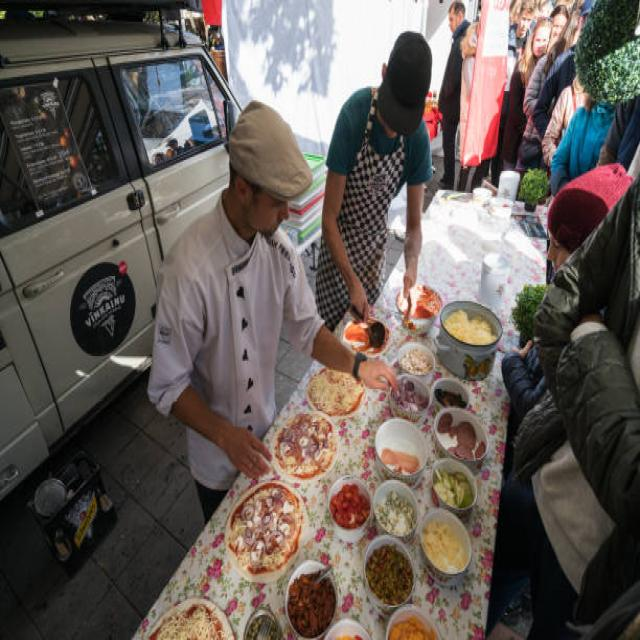Emperan: (109, 117, 640, 640)
